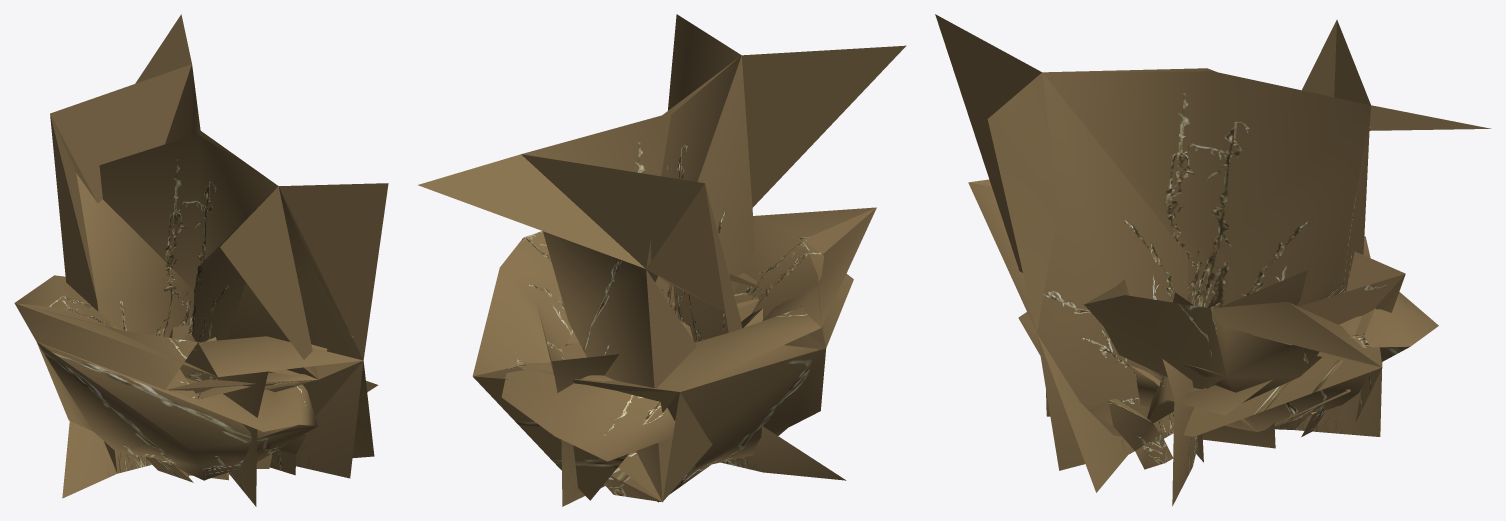
The model's file is weed2_LODGroup.fbx.
3 renders of one model, left to right at view 1: azimuth 30°, elevation 25°; view 2: azimuth 150°, elevation 25°; view 3: azimuth 270°, elevation 25°, orthographic. The views are drawn at different scales.
Visible parts, largest first — view 1: weed2_LOD0; view 2: weed2_LOD0; view 3: weed2_LOD0.
Boxes of the visible parts, x1,y1,x2,y2 form: weed2_LOD0: (14, 14, 388, 506); weed2_LOD0: (418, 14, 906, 506); weed2_LOD0: (935, 14, 1491, 506).
Size of what is drawn, in the model's own units: 0.9905 by 0.9545 by 1.36.
